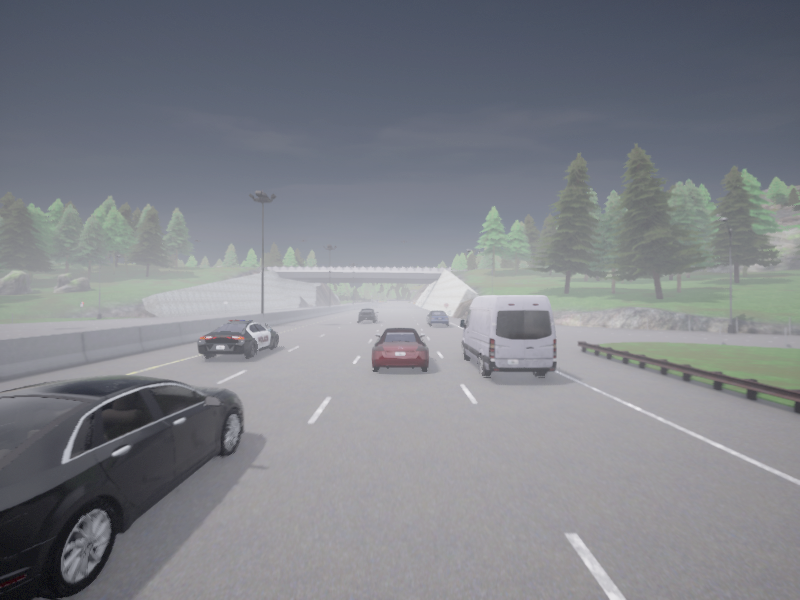vehicle: (0, 375, 242, 599), (460, 295, 556, 377), (197, 320, 277, 358), (372, 328, 428, 370), (426, 311, 448, 325), (358, 308, 378, 322)
